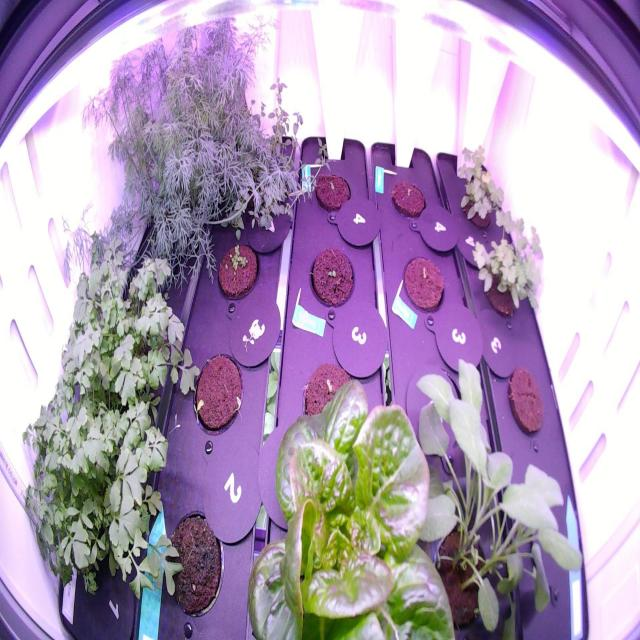Ready: (236, 361, 465, 638)
empty_pod: (400, 358, 466, 464)
germination: (294, 355, 364, 448), (303, 240, 361, 314), (210, 234, 264, 305), (306, 161, 356, 221), (385, 172, 429, 226)
pod: (161, 498, 229, 623), (188, 342, 246, 440), (502, 360, 549, 447), (398, 248, 453, 320)
